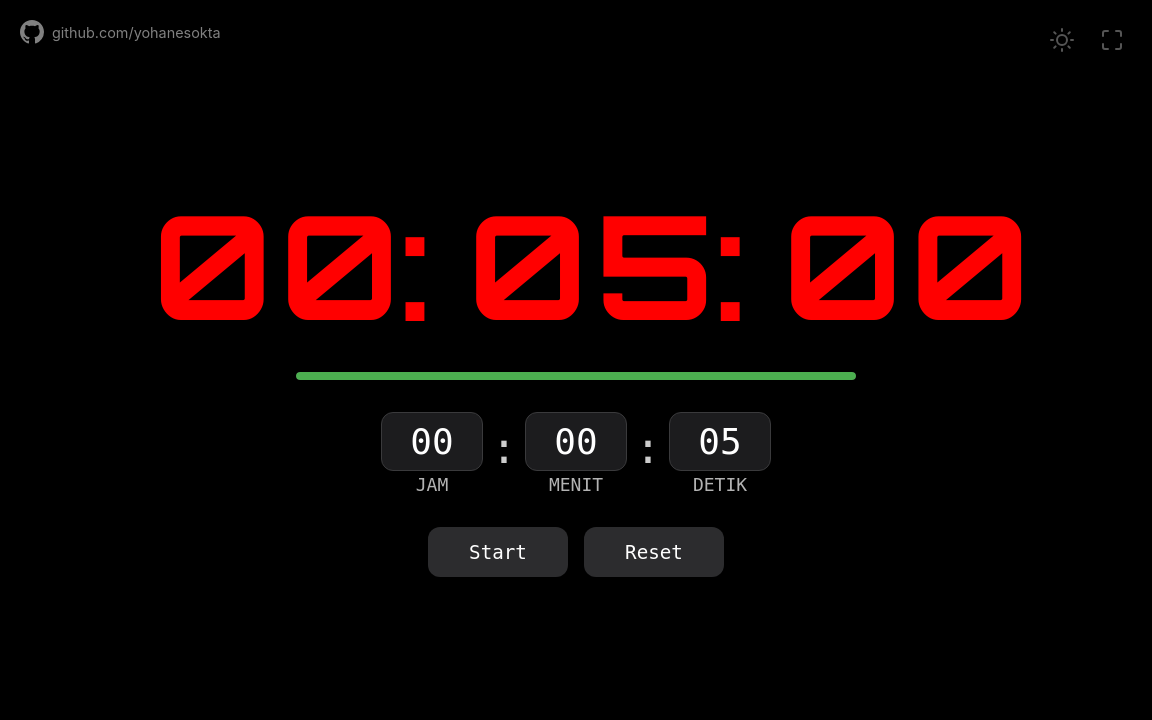
Timer Component › resets the timer
The image size is (1152, 720).
Click the button "Start" at [498, 552], box [428, 527, 568, 577]
Wait 2000 ms
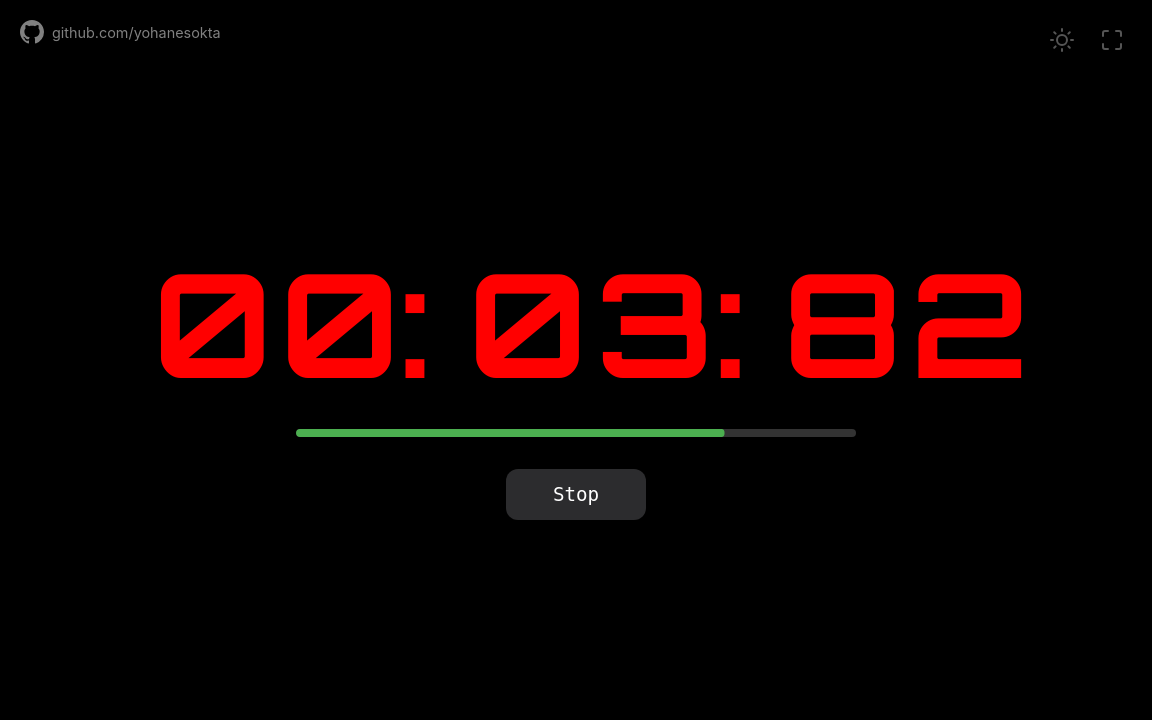
Click the button "Stop" at [576, 494], box [506, 469, 646, 520]
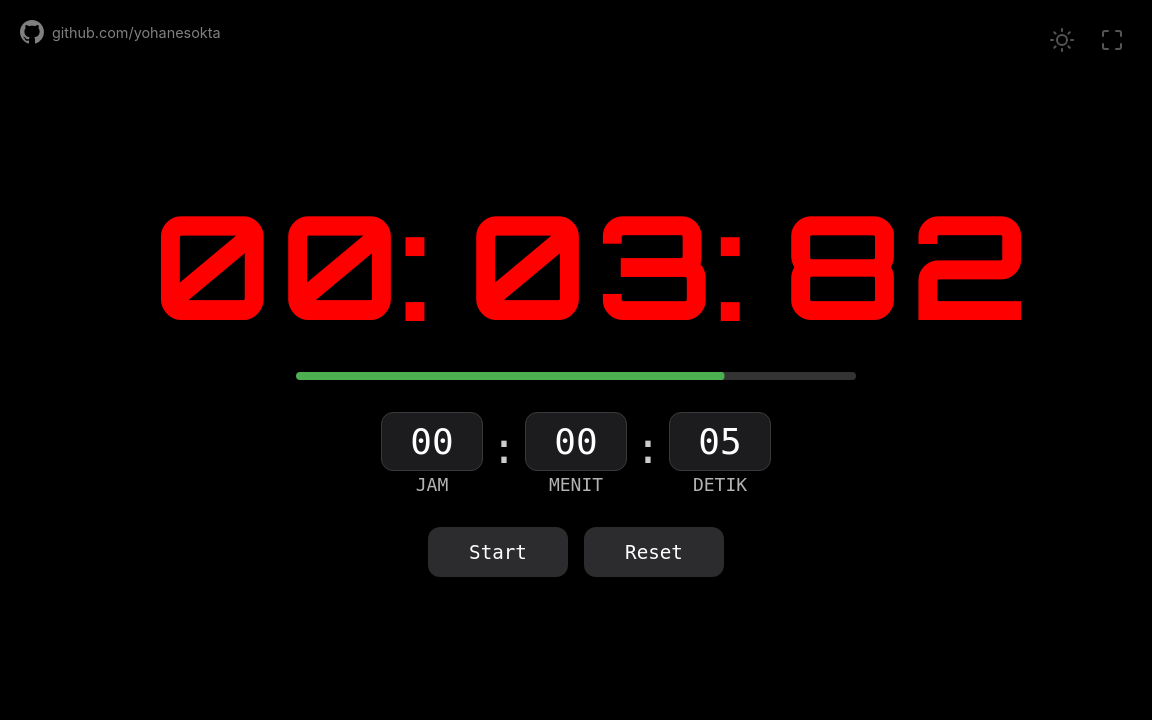
Click the button "Reset" at [654, 552], box [584, 527, 724, 577]
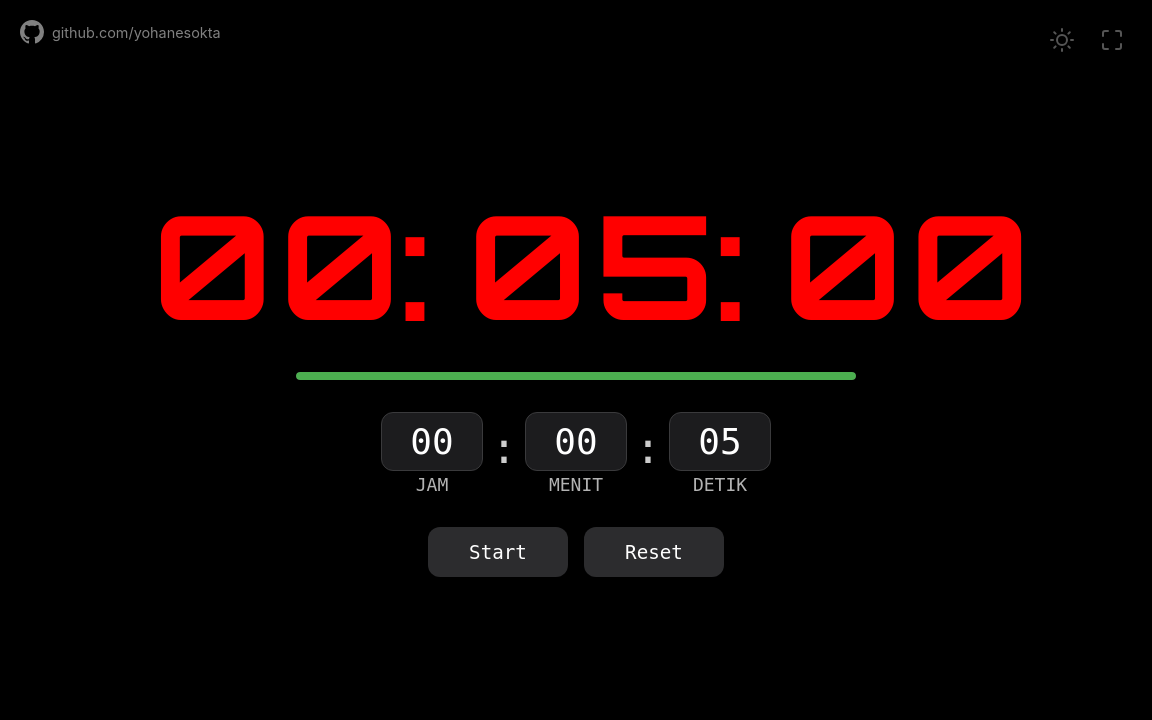
expect the text with test id "minutes" reads "00": met, box [153, 174, 407, 355]
expect the text with test id "seconds" reads "05": met, box [468, 174, 722, 355]
expect the text with test id "milliseconds" reads "00": met, box [783, 174, 1038, 355]
